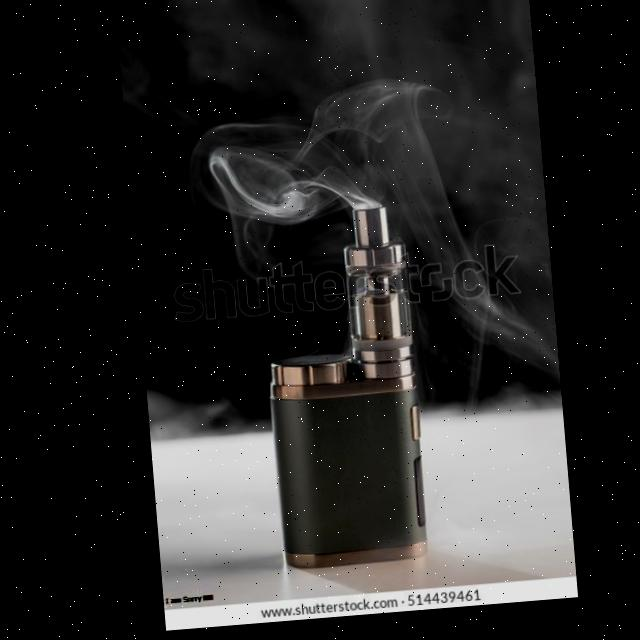vape: (250, 210, 423, 576)
